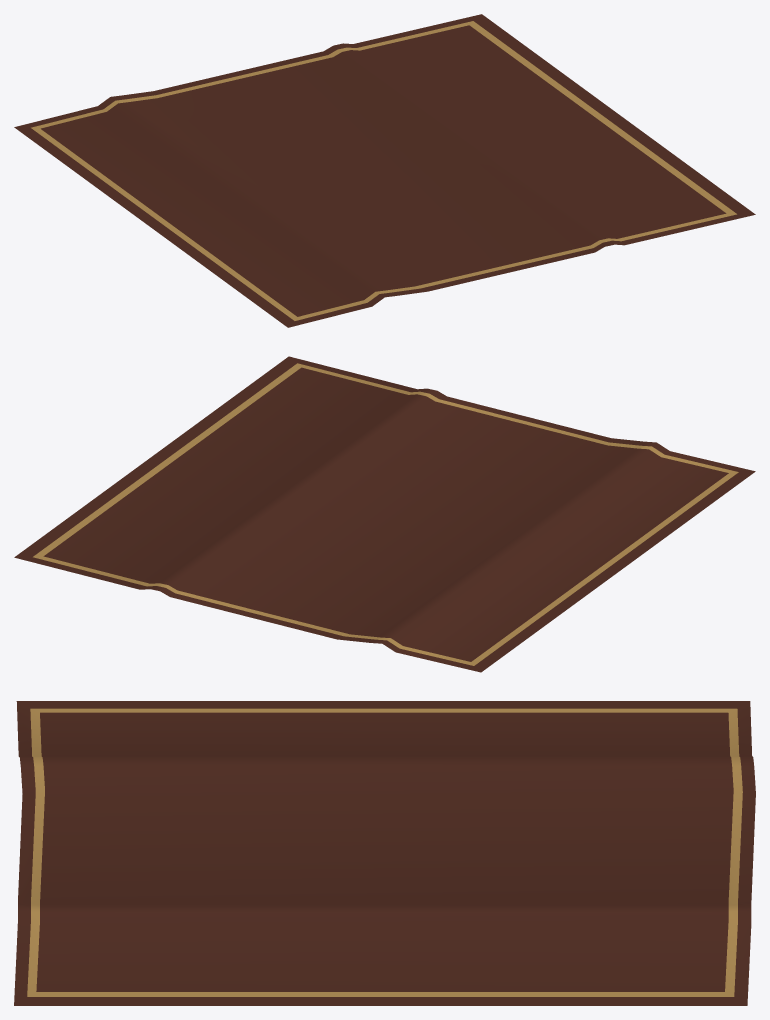
Rendered from Carpet_2.glb.
The picture shows the model from 3 angles, top to bottom: view 1: azimuth 30°, elevation 25°; view 2: azimuth 150°, elevation 25°; view 3: azimuth 270°, elevation 25°; orthographic projection. The views are drawn at different scales.
Parts seen in each view (by area): view 1: Carpet_2; view 2: Carpet_2; view 3: Carpet_2.
Part boxes in pixels (x1,y1,x2,y2): Carpet_2: (14, 14, 755, 327); Carpet_2: (14, 356, 755, 672); Carpet_2: (14, 701, 755, 1005).
Bounding box in the file's own units: 3.09 × 0.0367 × 3.18.
